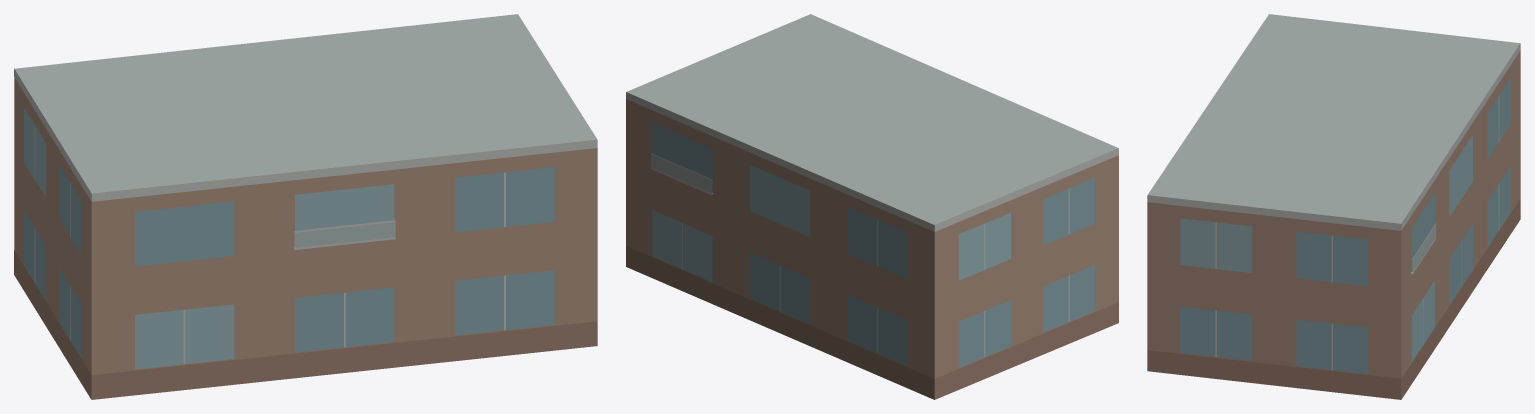
Rendered from survey-upis-32877770.glb.
3 renders of one model, left to right at view 1: azimuth 30°, elevation 25°; view 2: azimuth 150°, elevation 25°; view 3: azimuth 270°, elevation 25°, orthographic. The views are drawn at different scales.
Visible parts, largest first — view 1: survey-upis-32877770.tmp; view 2: survey-upis-32877770.tmp; view 3: survey-upis-32877770.tmp.
Part boxes in pixels (x1,y1,x2,y2): survey-upis-32877770.tmp: [14, 14, 597, 399]; survey-upis-32877770.tmp: [626, 14, 1118, 399]; survey-upis-32877770.tmp: [1147, 14, 1520, 399].
Size of the model in its own units: 15.61 by 6.1 by 11.73.
